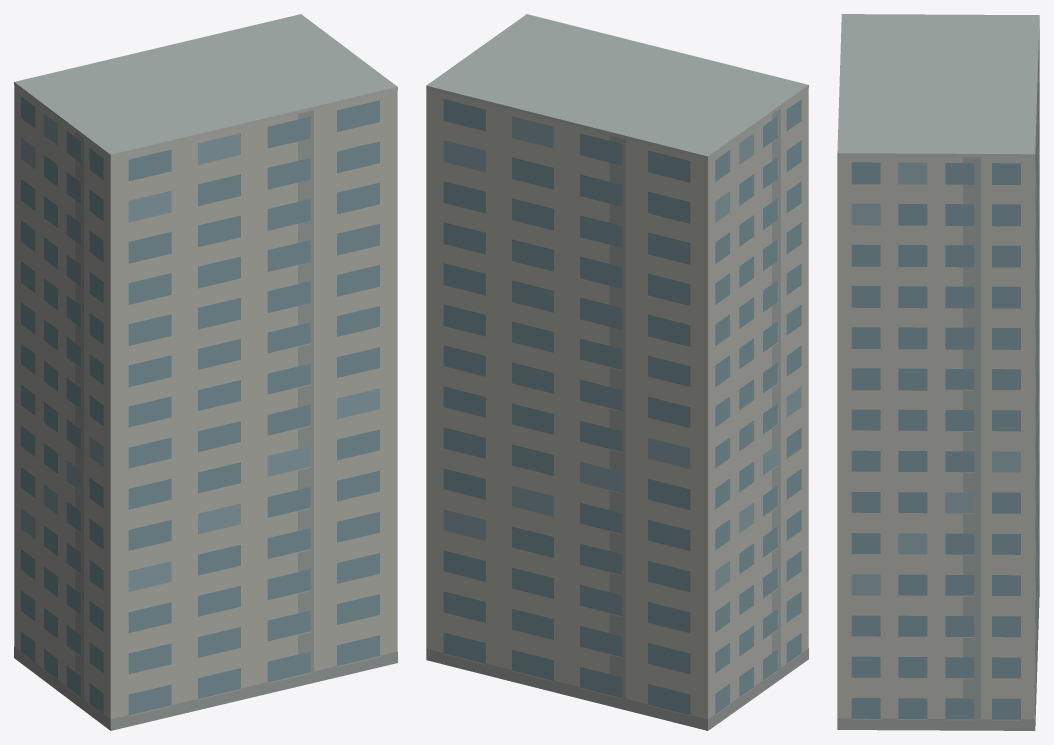
Rendered from residential-0b460fa9-de29-4cd8-9eb8-5a71b369c8fc.glb.
3 renders of one model, left to right at view 1: azimuth 30°, elevation 25°; view 2: azimuth 150°, elevation 25°; view 3: azimuth 270°, elevation 25°, orthographic.
Visible parts, largest first — view 1: residential-0b460fa9-de29-4cd8-9eb8-5a71b369c8fc.tmp; view 2: residential-0b460fa9-de29-4cd8-9eb8-5a71b369c8fc.tmp; view 3: residential-0b460fa9-de29-4cd8-9eb8-5a71b369c8fc.tmp.
Boxes of the visible parts, <box> form: residential-0b460fa9-de29-4cd8-9eb8-5a71b369c8fc.tmp: <box>14,14,397,730</box>; residential-0b460fa9-de29-4cd8-9eb8-5a71b369c8fc.tmp: <box>426,14,808,730</box>; residential-0b460fa9-de29-4cd8-9eb8-5a71b369c8fc.tmp: <box>837,14,1039,730</box>.
Bounding box in the file's own units: 21.39 × 41 × 13.04.
